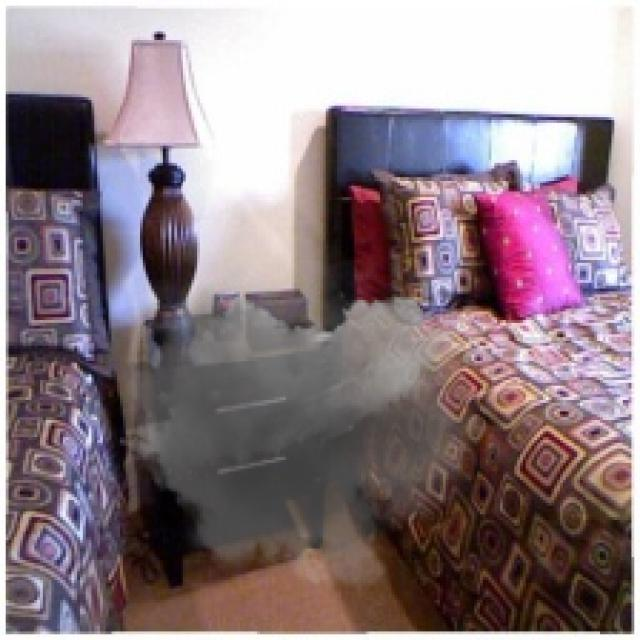smoke: (106, 217, 480, 606)
